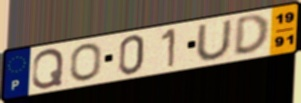0: (116, 33, 147, 77)
1: (159, 27, 177, 70)
D: (231, 13, 271, 57)
O: (69, 42, 103, 82)
Q: (30, 47, 66, 91)
U: (194, 18, 234, 62)
